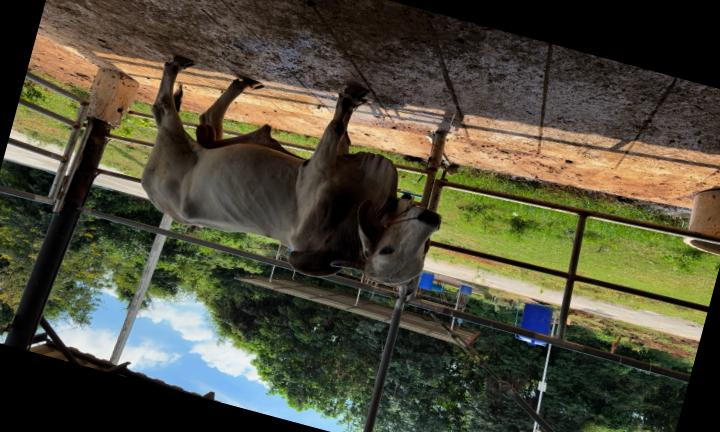Brahman: (141, 56, 440, 294)
